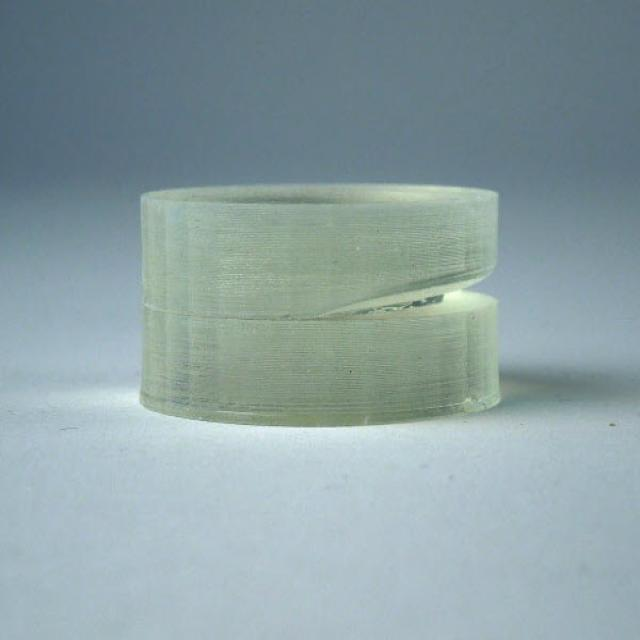cracks: (321, 251, 524, 336)
